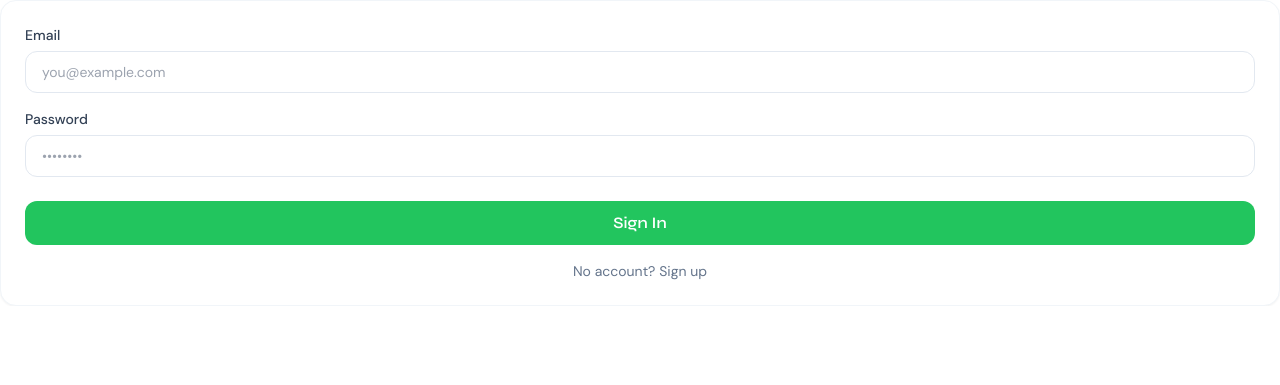
Test: auth flow › shows an error for invalid login credentials
The width and height of the screenshot is (1280, 385).
In the field with test id "auth-login-email": x=640, y=72 25,51 -> 1255,93, type "nobody@example.com"
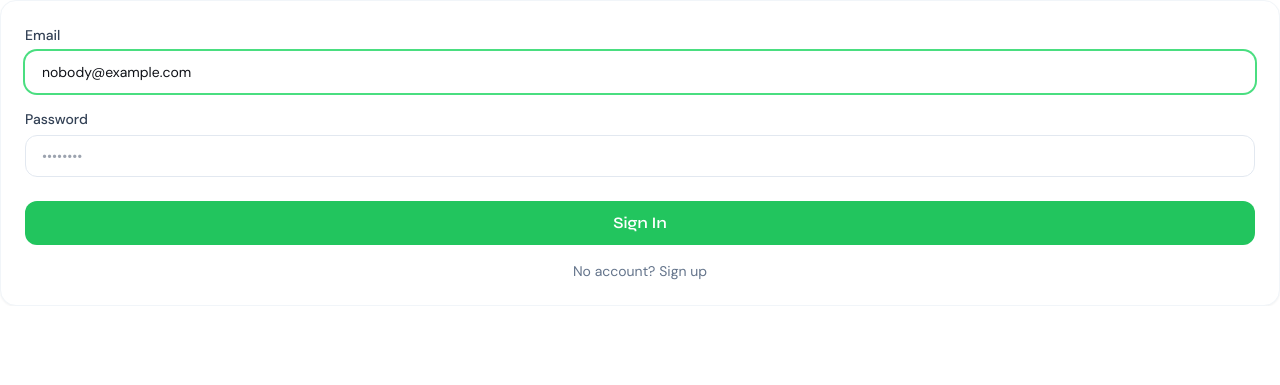
In the password field with test id "auth-login-password": x=640, y=156 25,135 -> 1255,177, type "wrongpass"
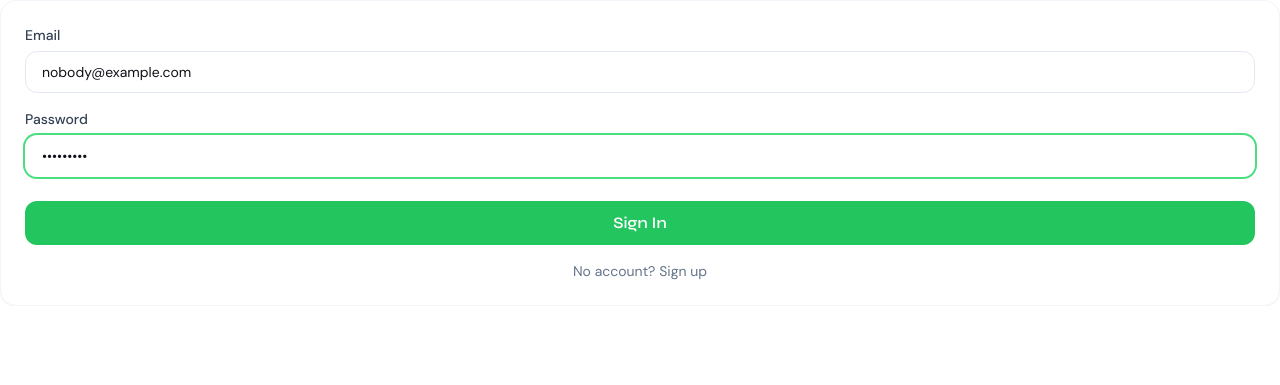
Click the button with test id "auth-login-submit": x=640, y=223 25,201 -> 1255,245
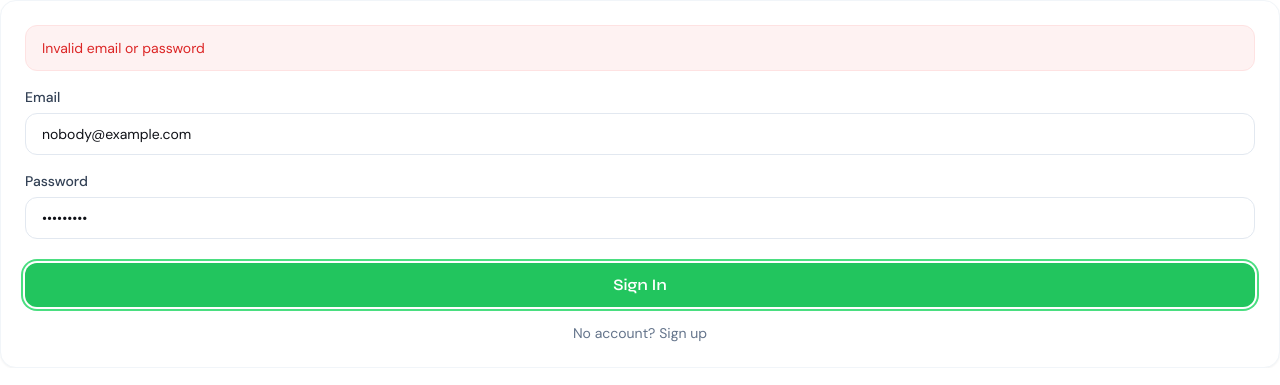
Check: the message reads "Invalid email or password", box 42,39 -> 205,57
